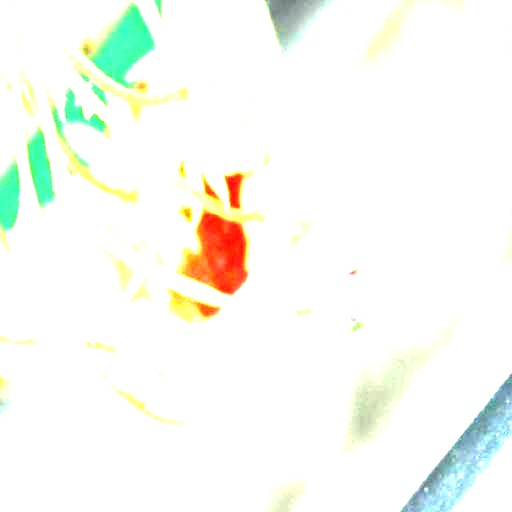Gray Mold: (300, 228, 402, 340)
